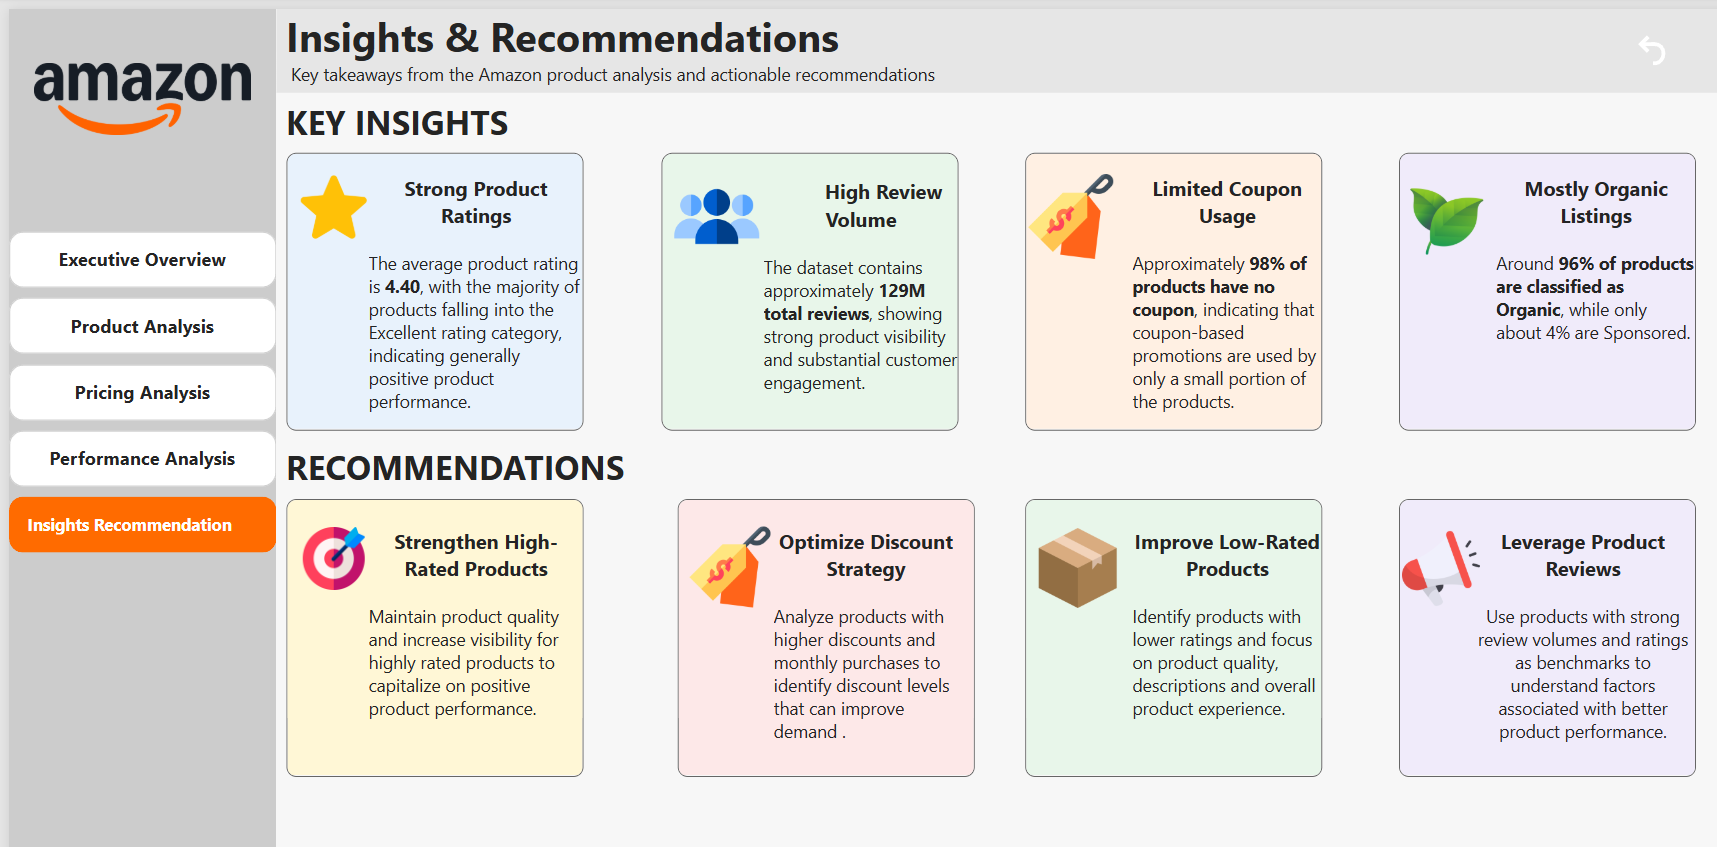

This screenshot's page, from the dashboard's own definition file:
{"tool":"powerbi","page":{"name":"Insights Recommendation","canvas":[1920,1080],"ordinal":4},"visuals":[{"type":"shape","box":[0,0,214,690],"z":0},{"type":"shape","box":[214,0,1198,67],"z":1000},{"type":"image","box":[20,0,174,144],"z":2000},{"type":"textbox","box":[222,0,1002,67],"z":3000},{"type":"pageNavigator","box":[0,178,214,261],"z":4000},{"type":"shape","box":[222,115,238,222],"z":5000},{"type":"textbox","box":[222,72,460,43],"z":6000},{"type":"shape","box":[522,115,238,222],"z":7000},{"type":"shape","box":[813,115,238,222],"z":8000},{"type":"shape","box":[1112,115,238,222],"z":9000},{"type":"shape","box":[222,392,238,222],"z":10000},{"type":"shape","box":[535,392,238,222],"z":11000},{"type":"shape","box":[813,392,238,222],"z":12000},{"type":"shape","box":[1112,392,238,222],"z":13000},{"type":"textbox","box":[288,132,172,205],"z":14000},{"type":"textbox","box":[604,132,156,205],"z":15000},{"type":"textbox","box":[899,132,152,205],"z":16000},{"type":"textbox","box":[1190,132,160,205],"z":17000},{"type":"textbox","box":[222,348,348,44],"z":18000},{"type":"textbox","box":[288,414,172,200],"z":19000},{"type":"textbox","box":[612,414,148,200],"z":20000},{"type":"textbox","box":[899,414,152,200],"z":21000},{"type":"textbox","box":[1169,414,181,200],"z":22000},{"type":"image","box":[227,132,66,53],"z":23000},{"type":"image","box":[521,132,91,68],"z":24000},{"type":"image","box":[813,132,74,68],"z":25000},{"type":"image","box":[1121,140,59,60],"z":26000},{"type":"image","box":[235,412,50,55],"z":27000},{"type":"image","box":[542,414,70,65],"z":28000},{"type":"image","box":[823,404,64,87],"z":29000},{"type":"image","box":[1112,416,68,63],"z":30000},{"type":"actionButton","box":[1290,14,100,40],"z":30001}]}

Visuals, with their boxes on the page's 1920x1080 design canvas (x1, y1, x2, y2). These are canvas units, not pixel positions in the 1717x847 screenshot, which may show the page scaled, cropped or inside an application window:
shape: (0,0,214,690)
shape: (214,0,1412,67)
image: (20,0,194,144)
textbox: (222,0,1224,67)
pageNavigator: (0,178,214,439)
shape: (222,115,460,337)
textbox: (222,72,682,115)
shape: (522,115,760,337)
shape: (813,115,1051,337)
shape: (1112,115,1350,337)
shape: (222,392,460,614)
shape: (535,392,773,614)
shape: (813,392,1051,614)
shape: (1112,392,1350,614)
textbox: (288,132,460,337)
textbox: (604,132,760,337)
textbox: (899,132,1051,337)
textbox: (1190,132,1350,337)
textbox: (222,348,570,392)
textbox: (288,414,460,614)
textbox: (612,414,760,614)
textbox: (899,414,1051,614)
textbox: (1169,414,1350,614)
image: (227,132,293,185)
image: (521,132,612,200)
image: (813,132,887,200)
image: (1121,140,1180,200)
image: (235,412,285,467)
image: (542,414,612,479)
image: (823,404,887,491)
image: (1112,416,1180,479)
actionButton: (1290,14,1390,54)
